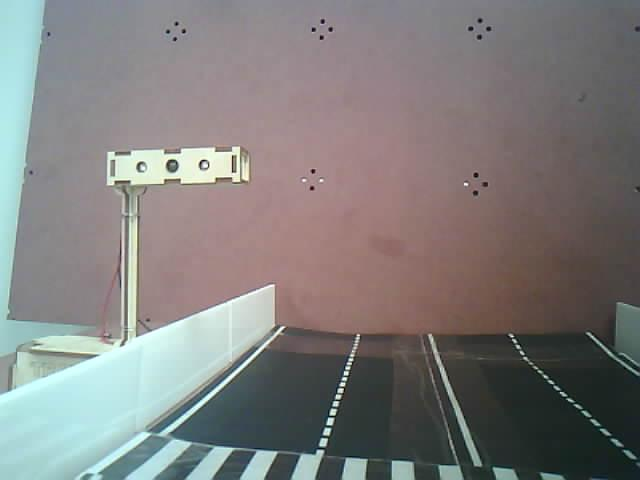crosswalk: (51, 418, 640, 479)
no: (98, 137, 259, 203)
